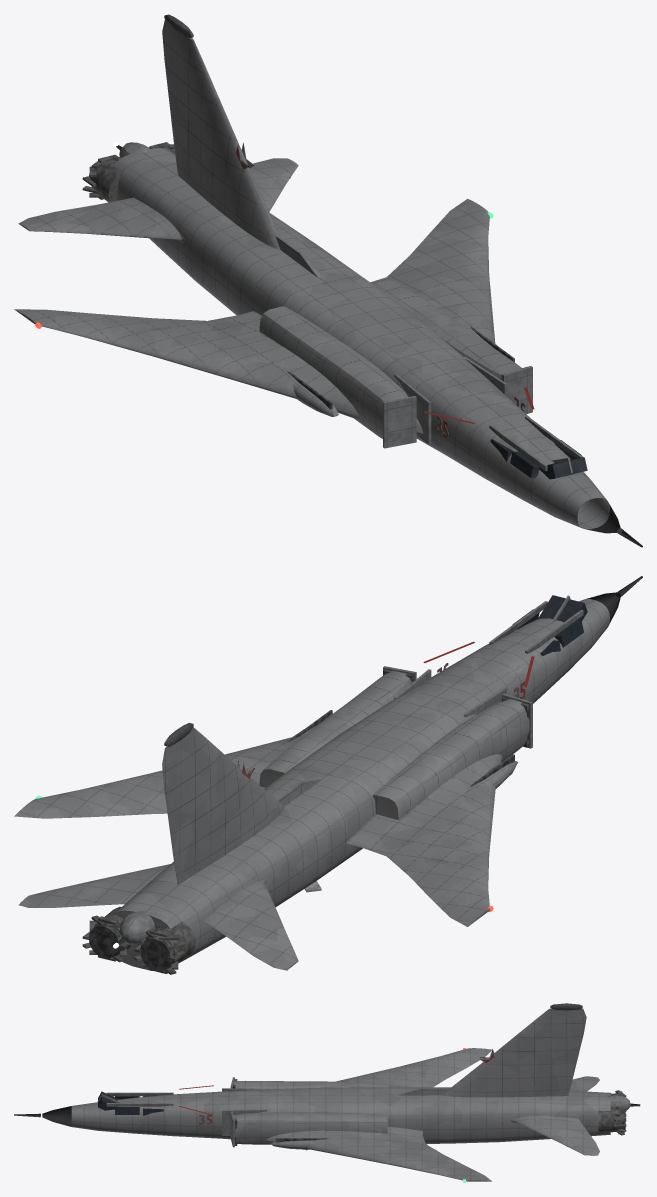
Rendered from aircraft_backfire.glb.
The picture shows the model from 3 angles, top to bottom: view 1: azimuth 30°, elevation 25°; view 2: azimuth 150°, elevation 25°; view 3: azimuth 270°, elevation 25°; orthographic projection. The views are drawn at different scales.
Parts seen in each view (by area): view 1: bf_body, bf_detail; view 2: bf_body, bf_detail; view 3: bf_body, bf_detail.
Part boxes in pixels (box(x1,y1,x2,y2)): bf_body: box(14, 14, 642, 547); bf_detail: box(35, 142, 583, 471); bf_body: box(14, 576, 642, 970); bf_detail: box(35, 601, 583, 974); bf_body: box(14, 1003, 630, 1181); bf_detail: box(106, 1048, 642, 1182).
Size of the model in its own units: 23.44 by 11.71 by 46.9.
11 materials, 11 textured.
